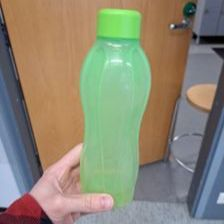bottle: (78, 6, 152, 211)
